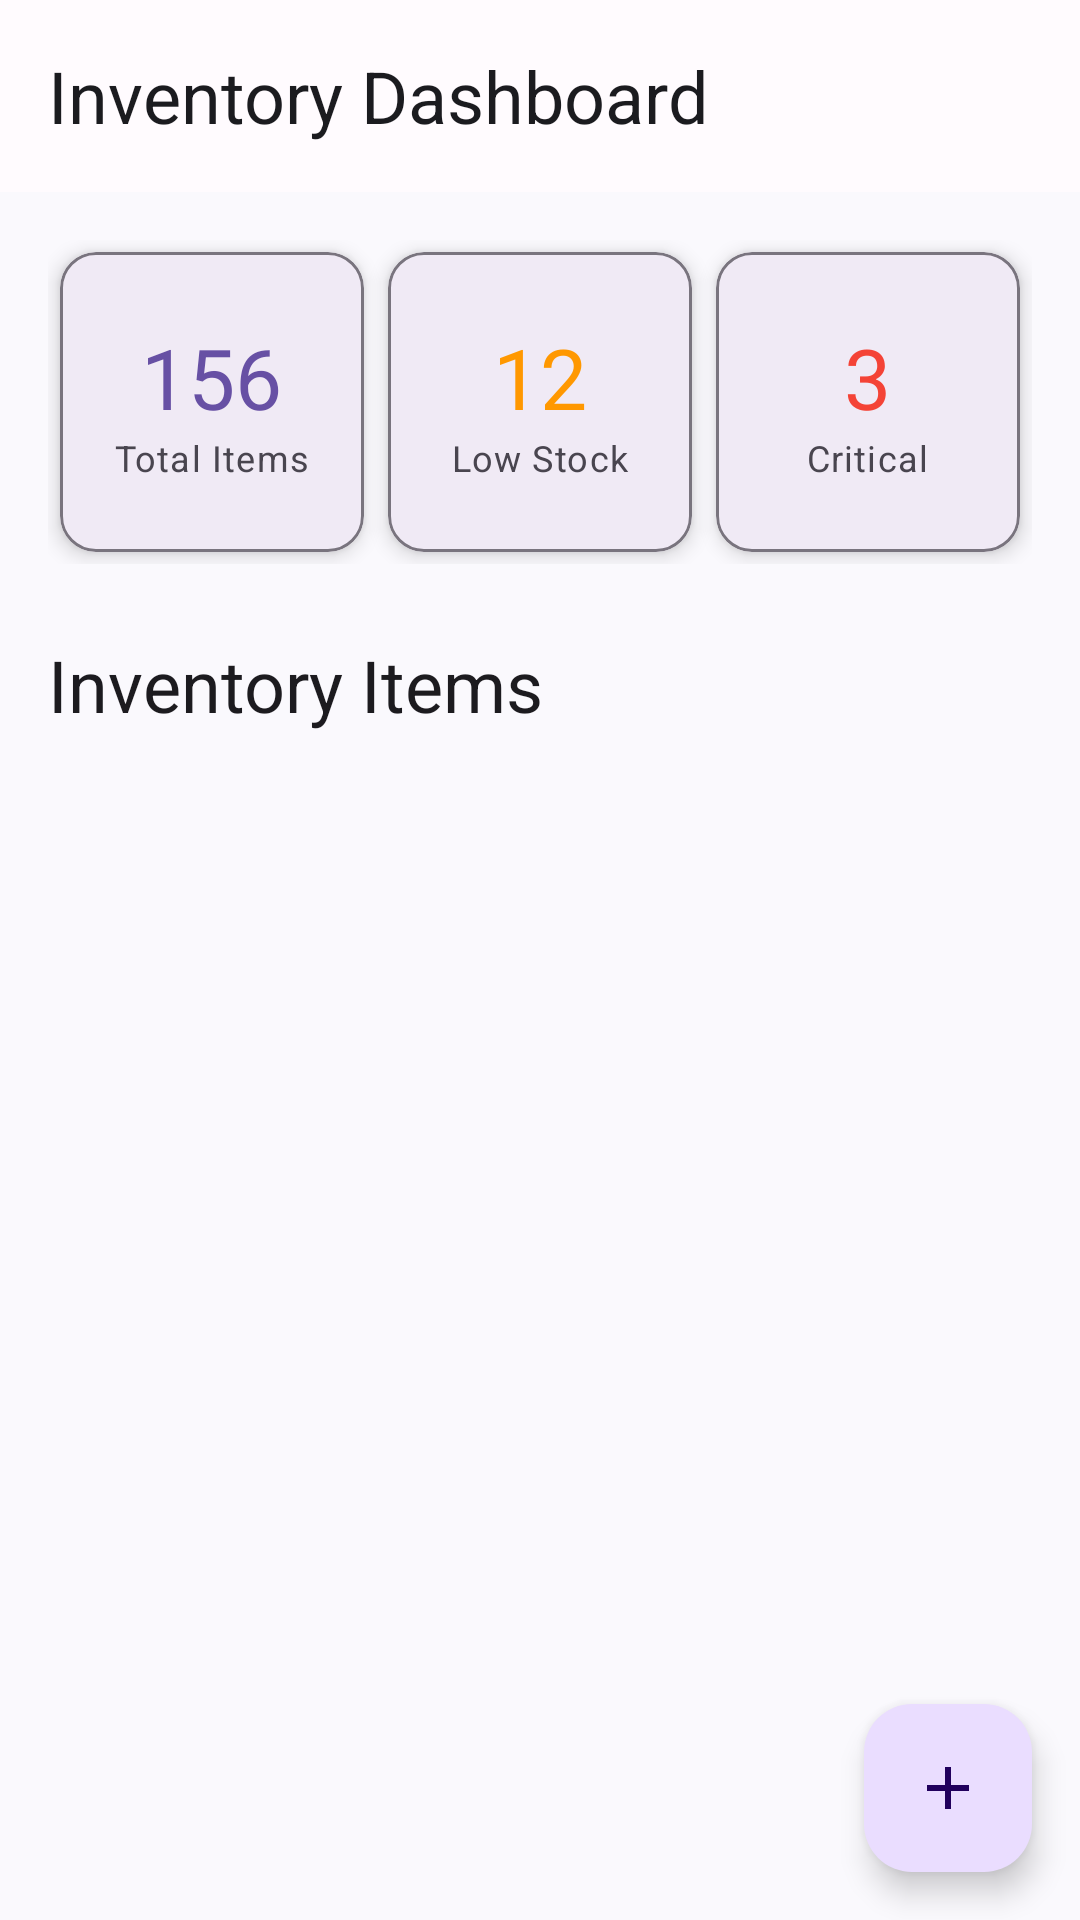

Icons on this 1080 × 1920 Android screen, each with the point to tap as (x,y):
Add new item: (948,1788)
